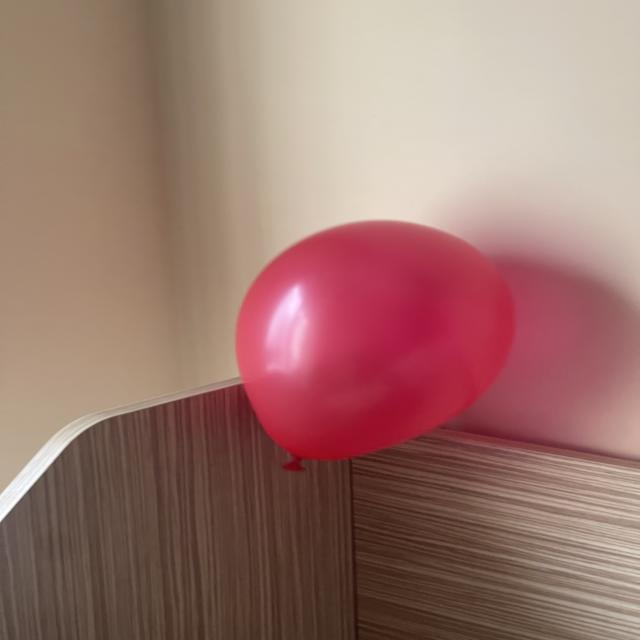balloon: (236, 220, 515, 461)
